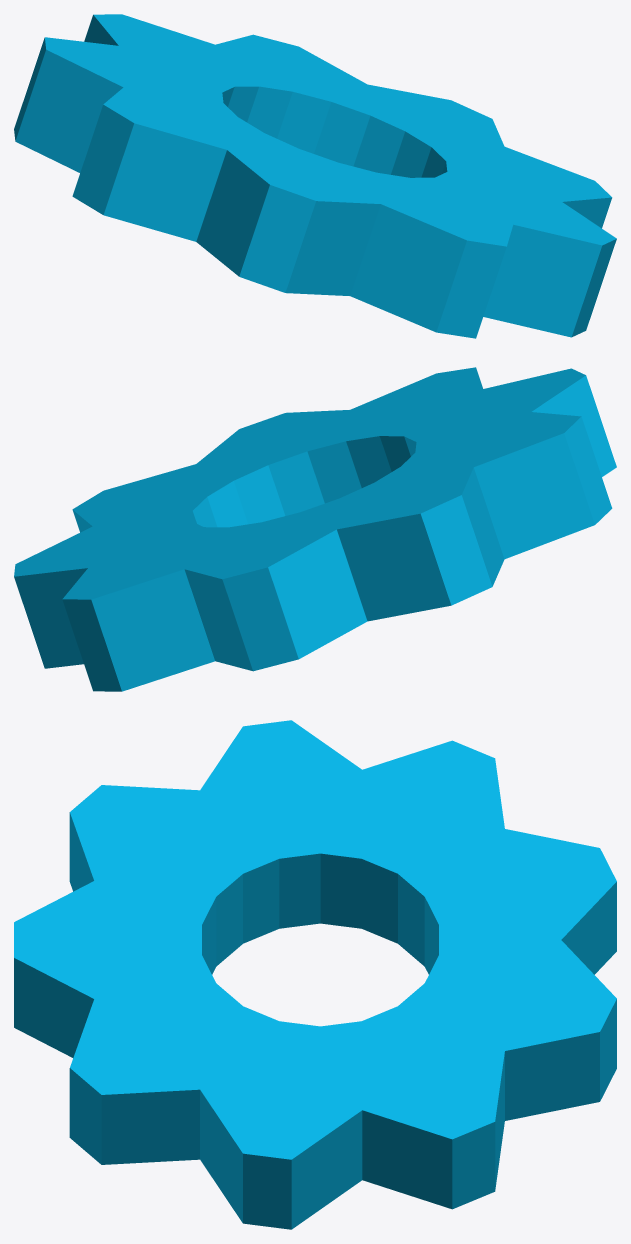
File: Geargeo5.fbx
The picture shows the model from 3 angles, top to bottom: view 1: azimuth 30°, elevation 25°; view 2: azimuth 150°, elevation 25°; view 3: azimuth 270°, elevation 25°; orthographic projection.
Visible parts, largest first — view 1: Gear5; view 2: Gear5; view 3: Gear5.
Boxes of the visible parts, x1=… form: Gear5: x1=14, y1=14, x2=616, y2=338; Gear5: x1=14, y1=367, x2=616, y2=691; Gear5: x1=14, y1=720, x2=616, y2=1229.
Size of the model in its own units: 69.51 by 35.7 by 68.95.
